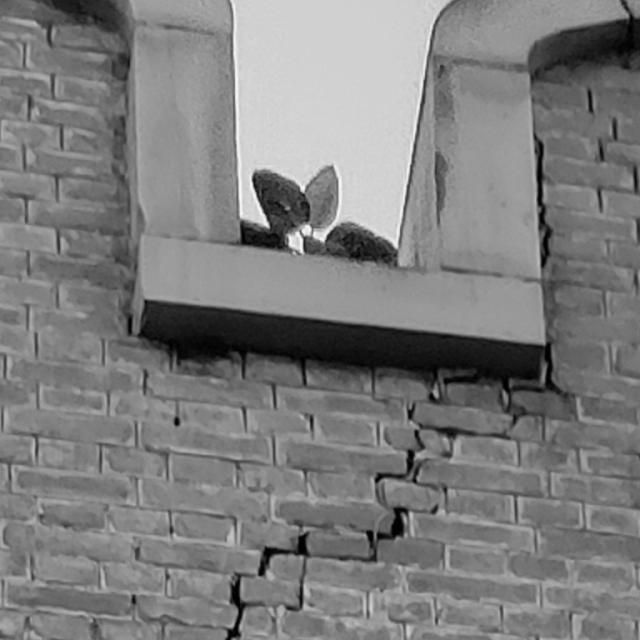crack: (226, 342, 564, 640), (534, 131, 552, 267)
